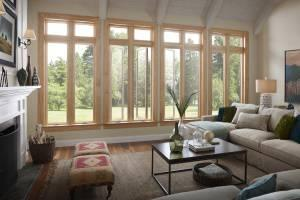window: (39, 13, 249, 130)
